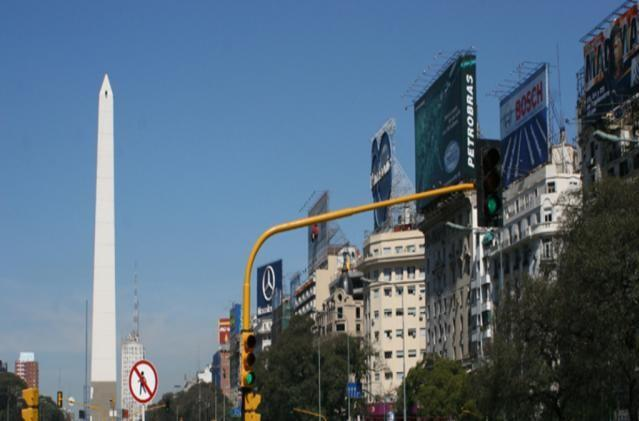green_light: (476, 139, 503, 227), (241, 332, 258, 386)
